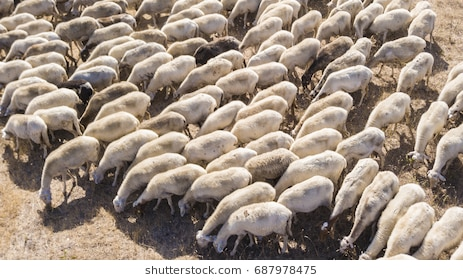sheep: (30, 137, 137, 197), (323, 158, 400, 229), (200, 183, 276, 249), (112, 152, 187, 214), (123, 164, 209, 218), (337, 173, 398, 246), (276, 150, 347, 209), (366, 189, 425, 258), (214, 205, 294, 252), (180, 169, 252, 219), (1, 60, 70, 112), (91, 109, 173, 151), (384, 205, 439, 264), (177, 129, 237, 178), (295, 90, 357, 135), (318, 65, 373, 115), (276, 177, 334, 223), (246, 148, 297, 196), (312, 35, 355, 89), (296, 105, 348, 149), (1, 80, 52, 124), (24, 87, 78, 128), (240, 14, 287, 60), (278, 37, 337, 73), (363, 92, 409, 138), (164, 89, 222, 124), (247, 128, 289, 176), (29, 105, 80, 144), (412, 100, 445, 160), (118, 51, 166, 92), (186, 10, 232, 52), (416, 206, 463, 247), (1, 111, 41, 158), (375, 37, 430, 71), (332, 128, 382, 165), (9, 39, 66, 70), (291, 128, 346, 160), (191, 32, 239, 68), (128, 1, 191, 28), (365, 8, 419, 39), (93, 35, 159, 60), (329, 51, 367, 94), (67, 1, 125, 29), (53, 19, 113, 46), (398, 52, 437, 92), (246, 59, 298, 89), (149, 54, 190, 92), (249, 1, 302, 30), (161, 32, 203, 66), (218, 69, 266, 96), (23, 39, 77, 63), (318, 10, 361, 40), (76, 64, 113, 96), (409, 10, 447, 39), (11, 15, 53, 40), (167, 15, 197, 48)
